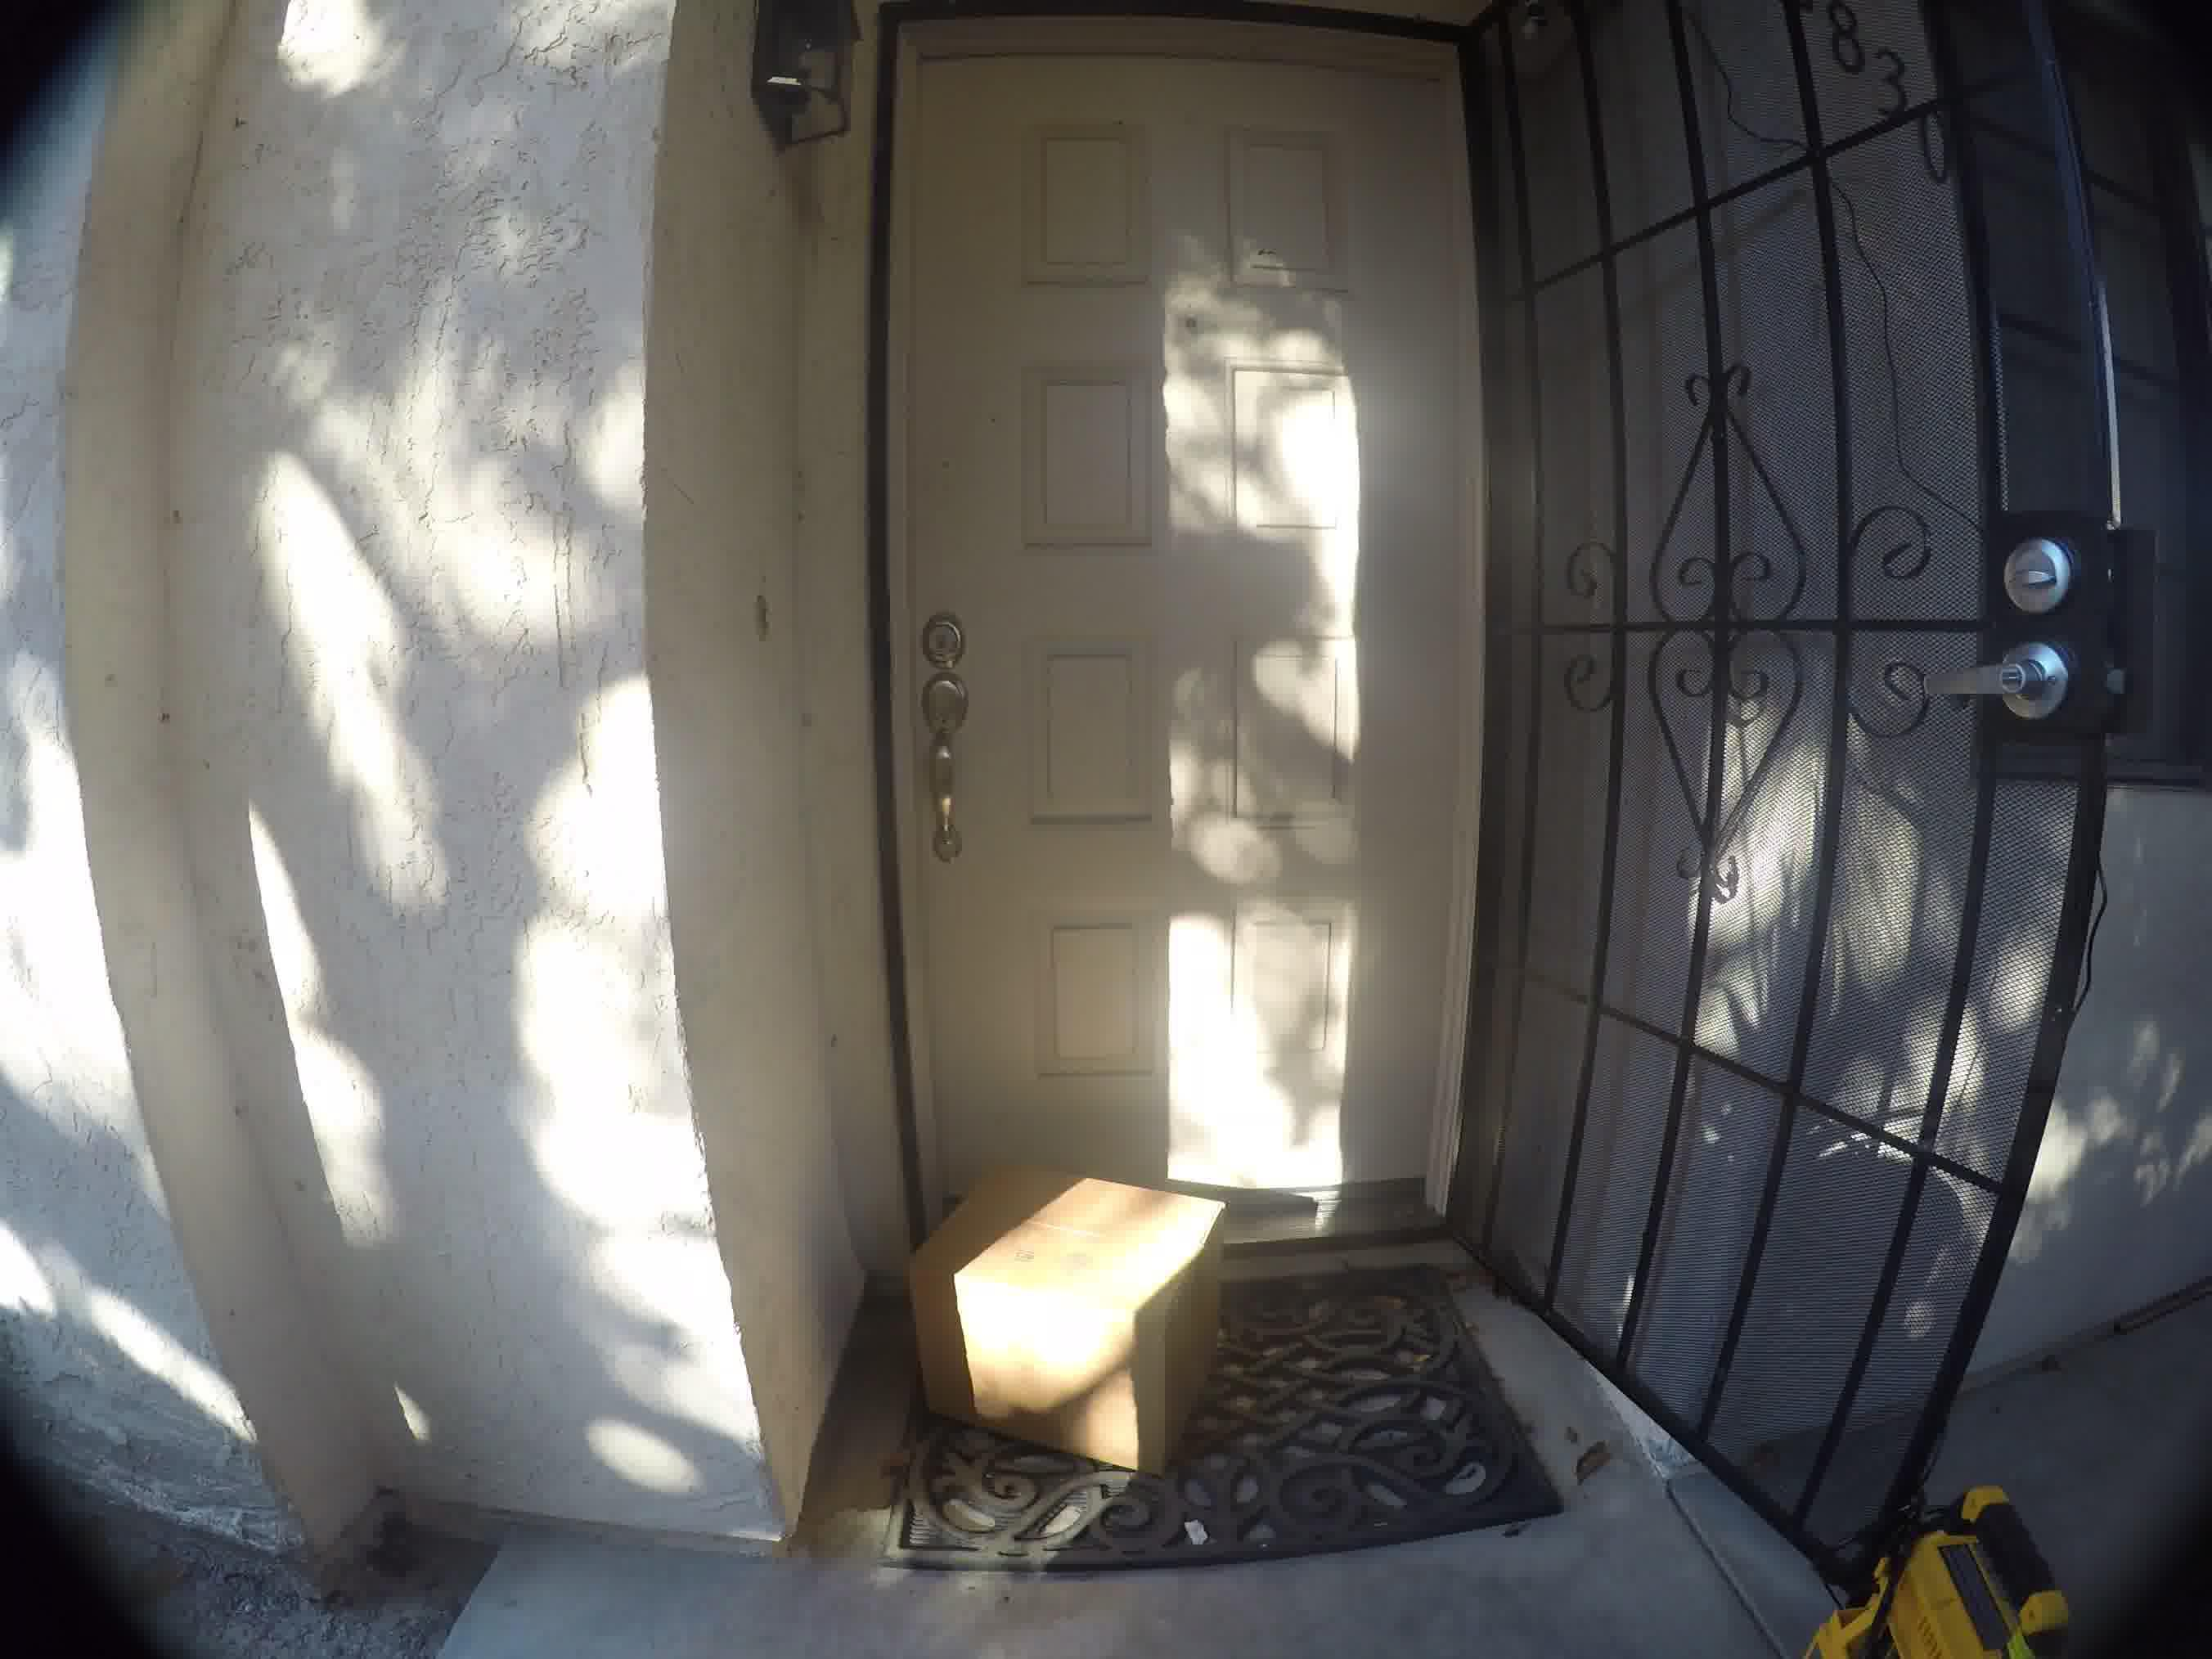box: (895, 1126, 1256, 1471)
